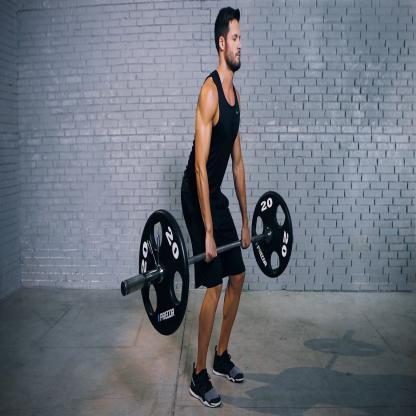barbell: (122, 192, 294, 336)
